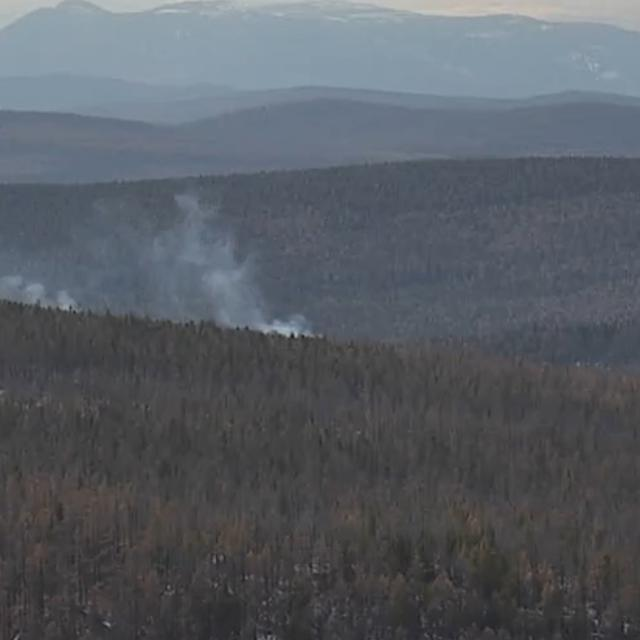Smoke: (0, 200, 323, 341)
